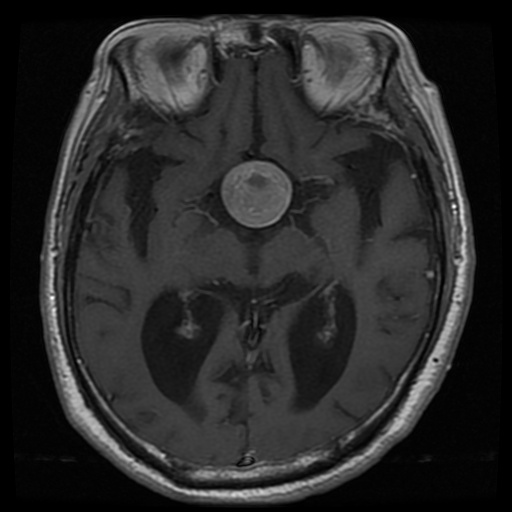pituitary: (222, 160, 291, 227)
